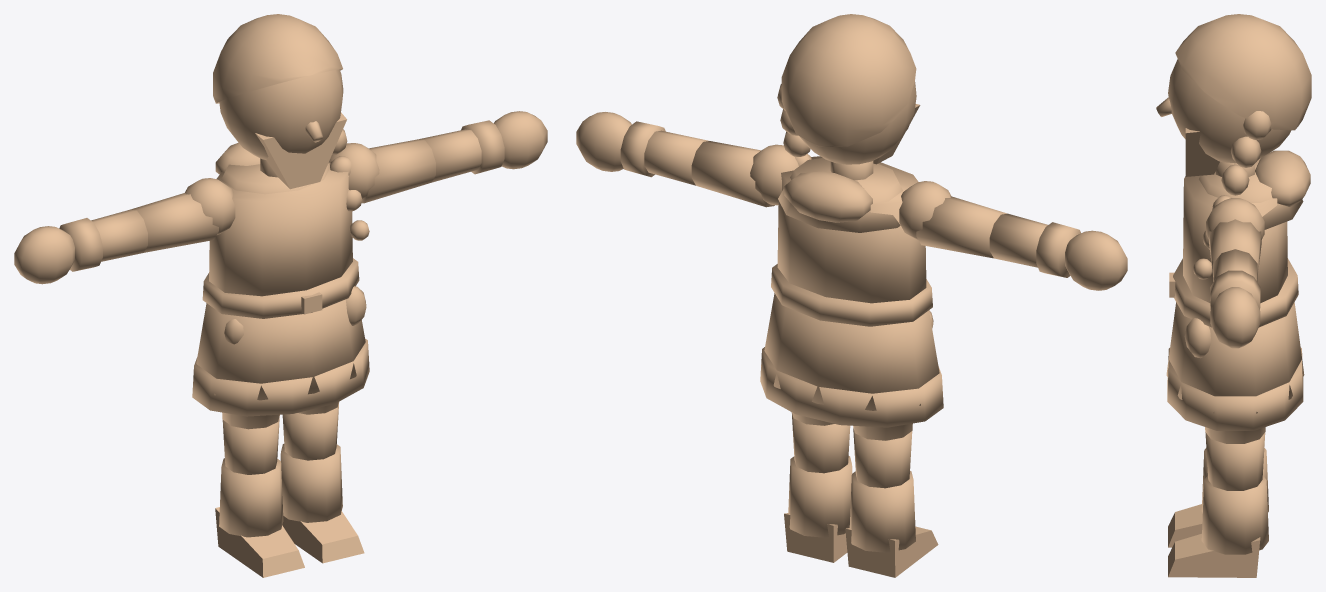
The model's file is hero2_tpose.fbx.
3 views of the same model, side by side, from view 1: azimuth 30°, elevation 25°; view 2: azimuth 150°, elevation 25°; view 3: azimuth 270°, elevation 25° (orthographic). The views are drawn at different scales.
Parts seen in each view (by area): view 1: HeroMesh; view 2: HeroMesh; view 3: HeroMesh.
Part boxes in pixels (x1,y1,x2,y2): HeroMesh: [14, 14, 547, 577]; HeroMesh: [576, 14, 1127, 577]; HeroMesh: [1156, 14, 1311, 577].
Bounding box in the file's own units: 1.75 × 1.66 × 0.4376.
